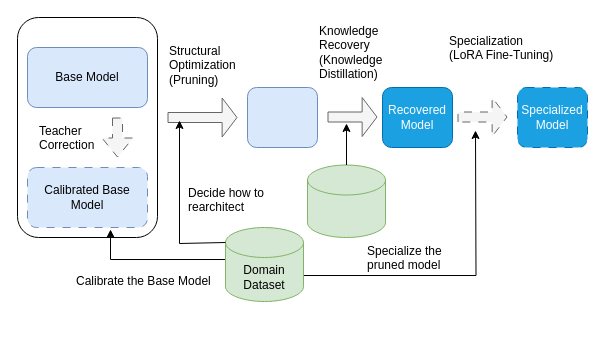
Image size: 605x345. Some labels were removed from this diagram. The box of each missing label's shape, as (x1, y1, x2, y2) in pixels:
General Datase t: (306, 164, 386, 238)
Pruned Model: (246, 86, 318, 148)
